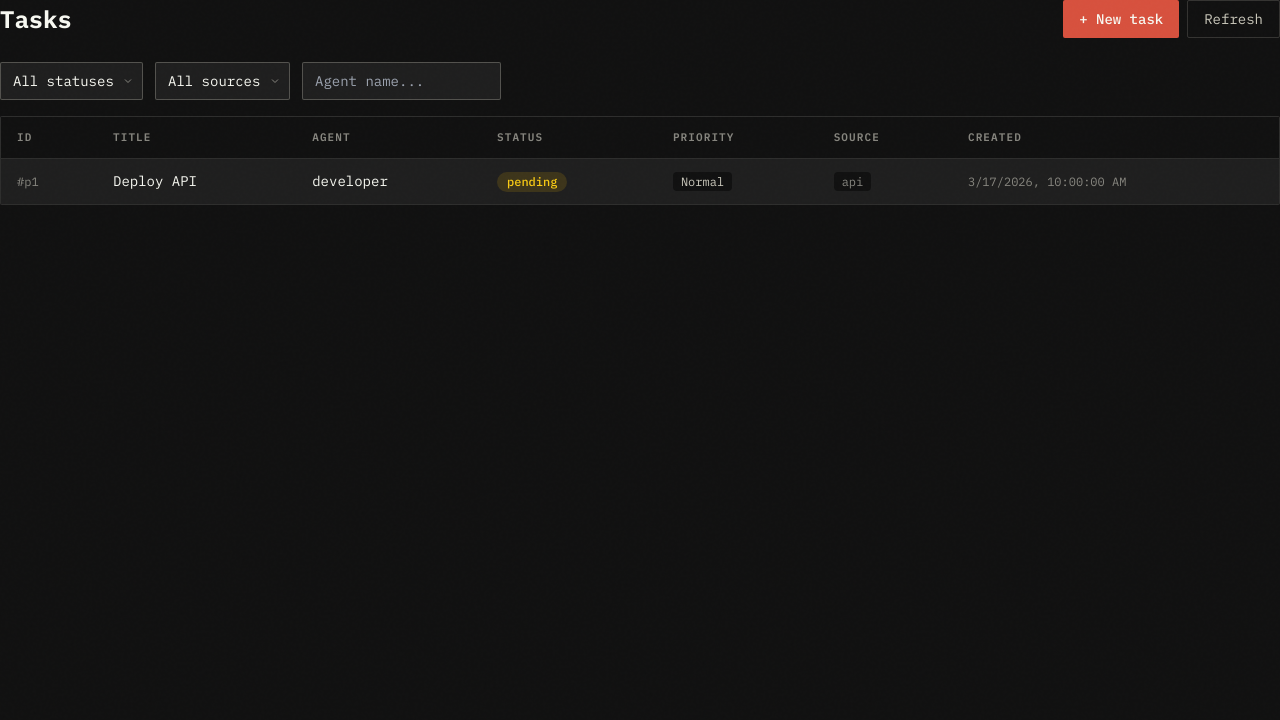
Test case: TasksPage › renders inline subtasks list when present
The image size is (1280, 720).
Click the text "Deploy API": (155, 181) [113, 172, 197, 190]
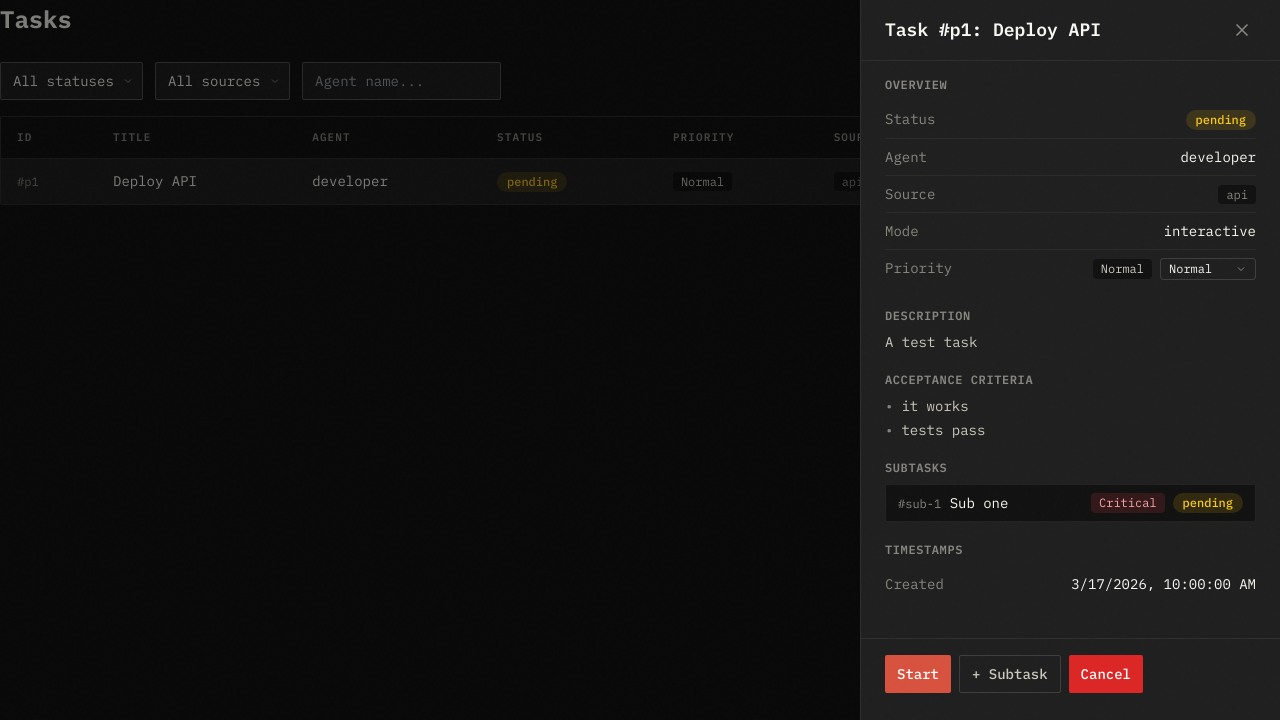
Check: the text "#sub-1 Sub one" is shown, box [898, 493, 1008, 513]
Check: the button "#sub-1 Sub one Critical pending" is shown, box [885, 484, 1256, 522]
